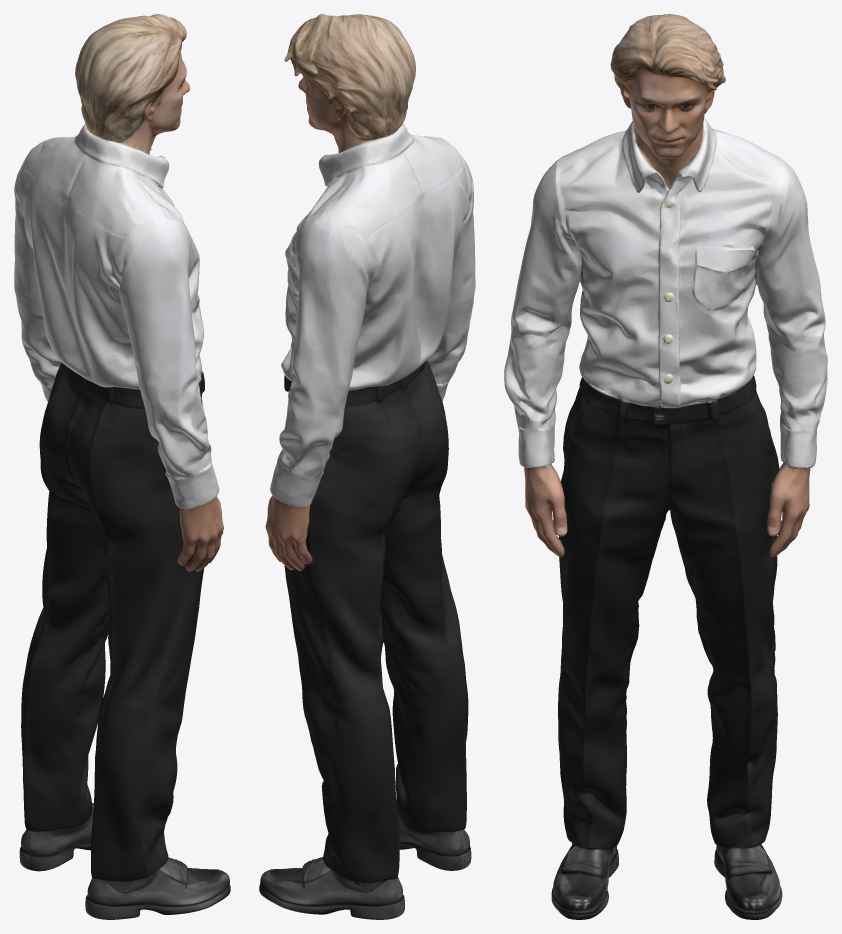
File: style-minimal.glb
3 views of the same model, side by side, from view 1: azimuth 30°, elevation 25°; view 2: azimuth 150°, elevation 25°; view 3: azimuth 270°, elevation 25° (orthographic). The views are drawn at different scales.
Parts seen in each view (by area): view 1: tripo_node_496374e0-1c86-4e24-927e-477f6bb6ce5d; view 2: tripo_node_496374e0-1c86-4e24-927e-477f6bb6ce5d; view 3: tripo_node_496374e0-1c86-4e24-927e-477f6bb6ce5d.
Boxes of the visible parts, box(x1,y1,x2,y2) form: tripo_node_496374e0-1c86-4e24-927e-477f6bb6ce5d: box(14, 14, 230, 919); tripo_node_496374e0-1c86-4e24-927e-477f6bb6ce5d: box(259, 14, 475, 919); tripo_node_496374e0-1c86-4e24-927e-477f6bb6ce5d: box(504, 14, 827, 919).
Bounding box in the file's own units: 0.1706 × 1 × 0.3342.
Materials: 1 (1 with a texture image).
